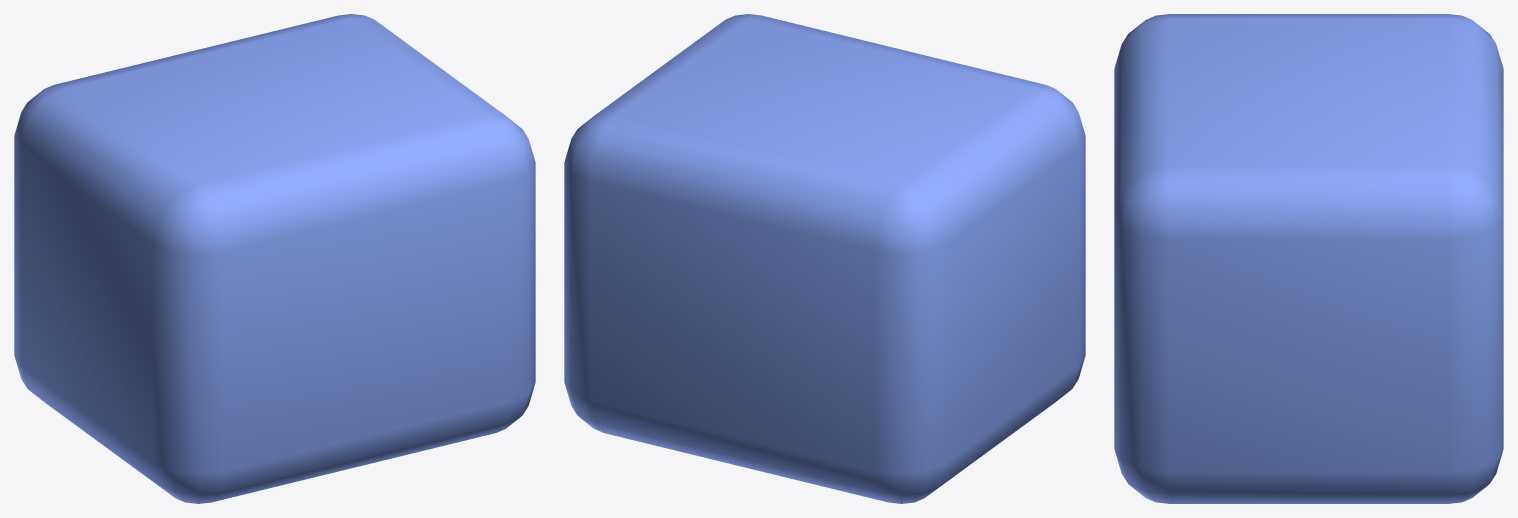
File: Head4.glb
The picture shows the model from 3 angles, left to right: view 1: azimuth 30°, elevation 25°; view 2: azimuth 150°, elevation 25°; view 3: azimuth 270°, elevation 25°; orthographic projection. The views are drawn at different scales.
Visible parts, largest first — view 1: Head_Cube; view 2: Head_Cube; view 3: Head_Cube.
Part boxes in pixels (x1=…): Head_Cube: x1=14, y1=14, x2=535, y2=503; Head_Cube: x1=564, y1=14, x2=1085, y2=503; Head_Cube: x1=1114, y1=14, x2=1503, y2=503.
Size of the model in its own units: 269 by 215 by 228.
